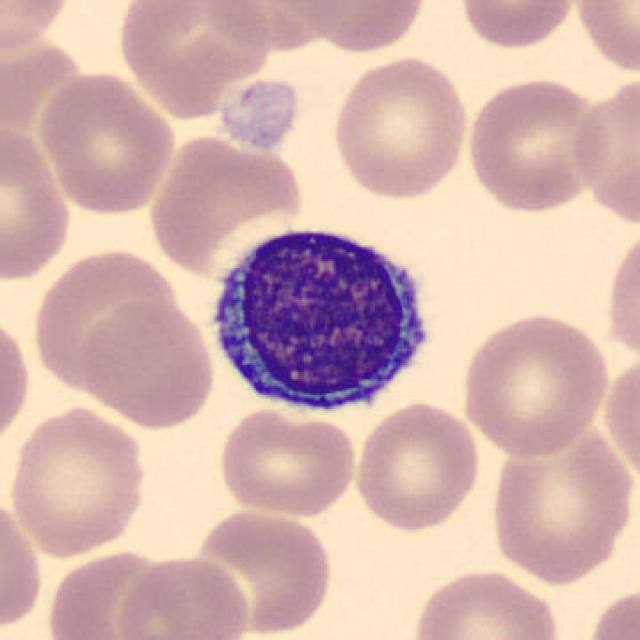Lymphocyte: (199, 213, 443, 423)
Platelets: (215, 76, 304, 153)
RBC: (486, 420, 636, 587), (146, 129, 308, 277), (26, 242, 178, 396), (457, 308, 613, 458), (5, 402, 151, 559), (327, 51, 471, 203), (34, 67, 178, 217), (462, 74, 608, 215), (188, 504, 336, 638), (114, 0, 274, 118), (78, 298, 219, 430), (350, 398, 484, 534), (215, 406, 359, 520), (43, 545, 181, 640), (0, 118, 75, 288), (112, 552, 252, 640), (407, 566, 565, 640), (569, 71, 640, 229), (281, 0, 432, 55), (215, 76, 304, 155), (0, 492, 46, 635), (455, 0, 578, 51), (602, 224, 640, 372), (601, 347, 640, 490), (570, 0, 640, 77), (0, 309, 34, 453), (0, 0, 76, 58), (583, 582, 638, 640)
